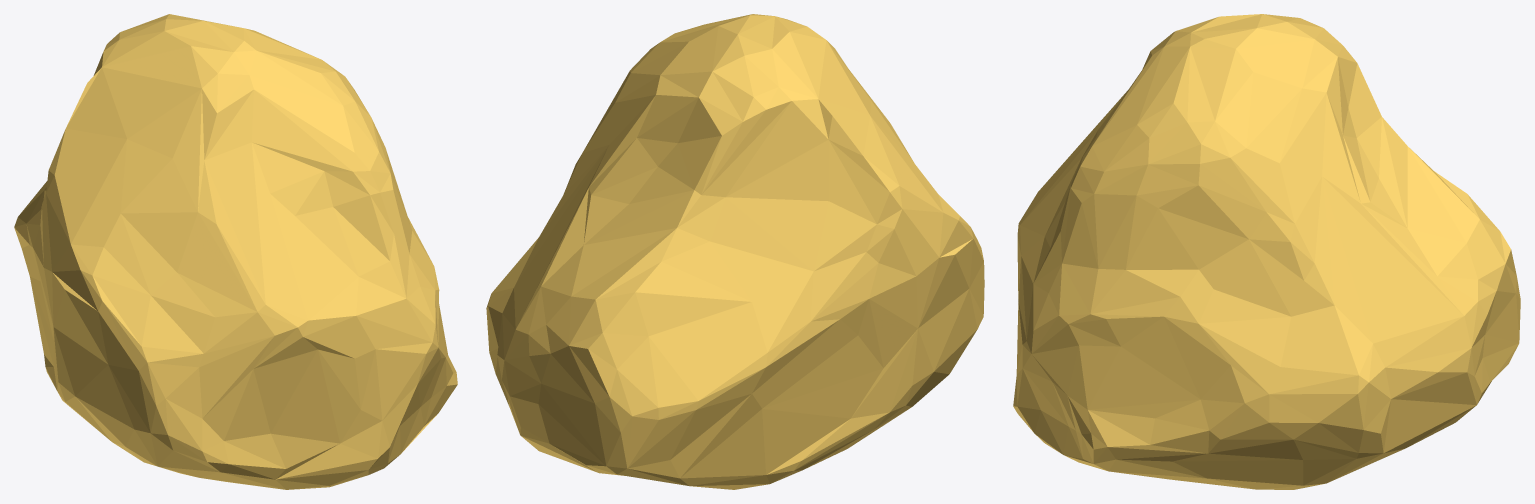
The model's file is Rock 05.FBX.
The picture shows the model from 3 angles, left to right: view 1: azimuth 30°, elevation 25°; view 2: azimuth 150°, elevation 25°; view 3: azimuth 270°, elevation 25°; orthographic projection. The views are drawn at different scales.
Parts seen in each view (by area): view 1: cube; view 2: cube; view 3: cube.
Boxes of the visible parts, box(x1,y1,x2,y2) form: cube: box(14, 14, 457, 489); cube: box(486, 14, 984, 489); cube: box(1013, 14, 1520, 489).
Size of the model in its own units: 63.38 by 64.98 by 75.13.
